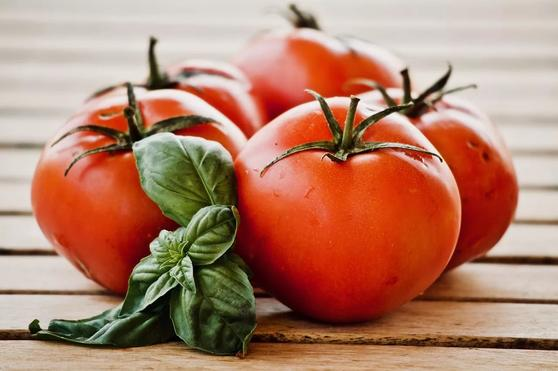tomato: (232, 97, 462, 323), (38, 85, 257, 294)
